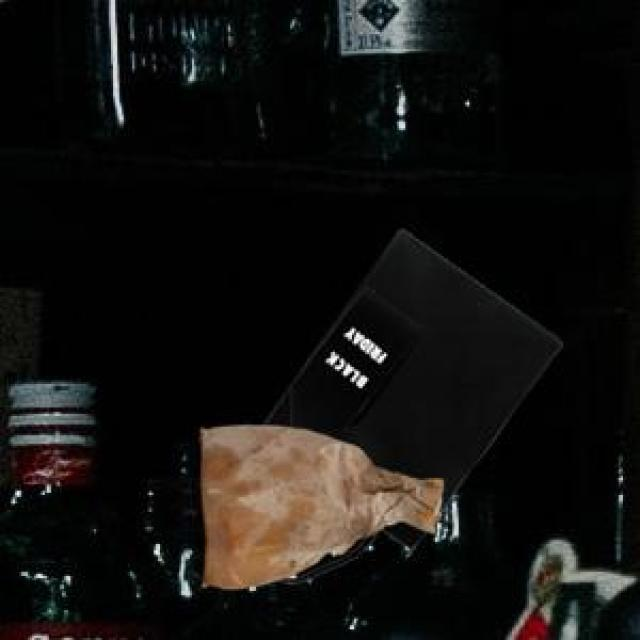paper: (260, 226, 557, 578), (196, 425, 440, 585)
